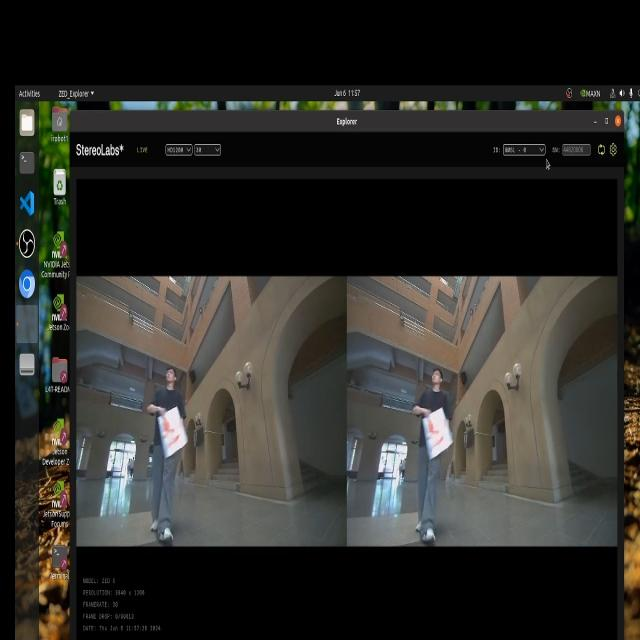red: (425, 420, 449, 462), (161, 418, 183, 454)
